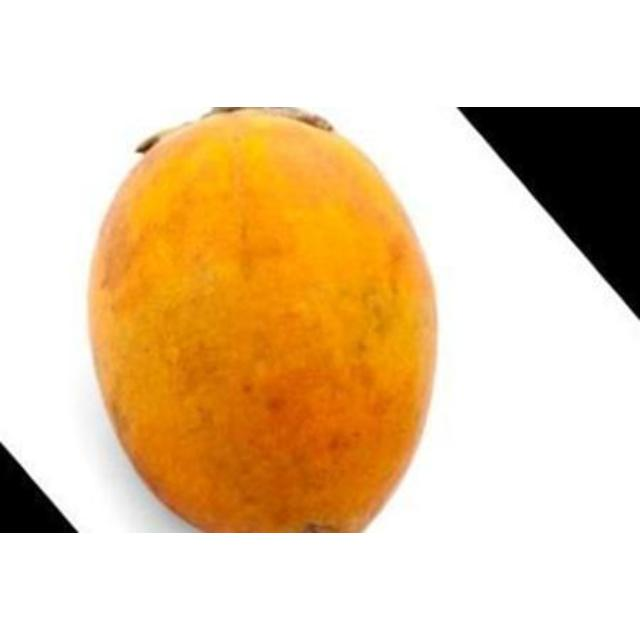good: (84, 107, 441, 532)
